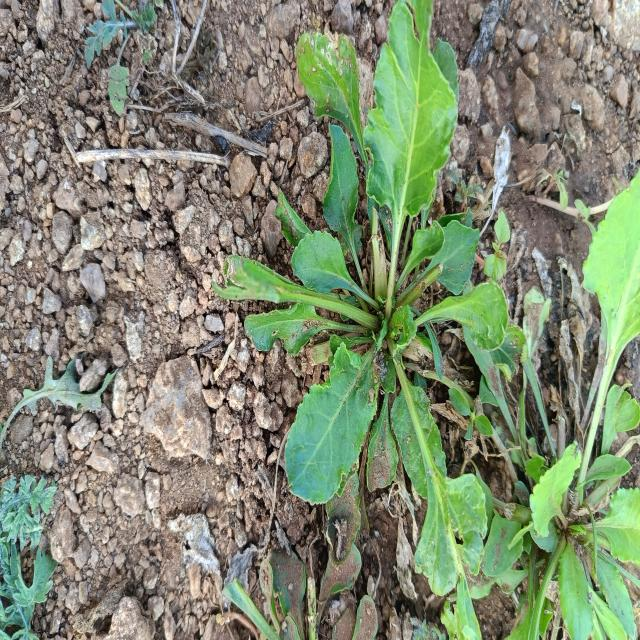leaves: (358, 1, 462, 270), (388, 350, 487, 600), (275, 331, 390, 507), (578, 164, 640, 485), (279, 4, 367, 210), (284, 222, 379, 320), (318, 127, 370, 296), (419, 285, 513, 357), (401, 229, 488, 301), (392, 210, 449, 301), (528, 450, 583, 539), (599, 378, 640, 473), (557, 547, 594, 640), (485, 513, 527, 590), (602, 488, 640, 559)
